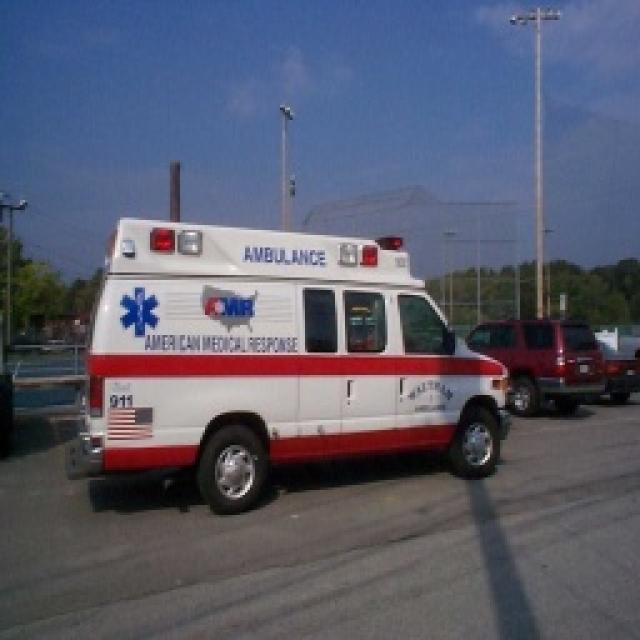emergency-vehicle: (82, 213, 516, 514)
